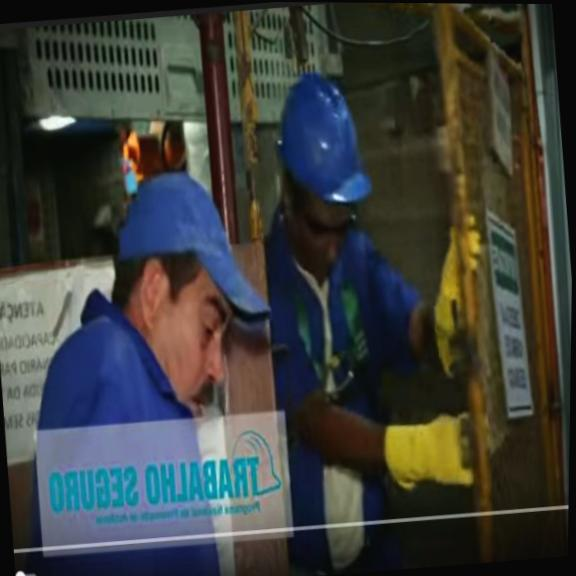no_safety_vest: (0, 274, 230, 576), (259, 215, 432, 569)
